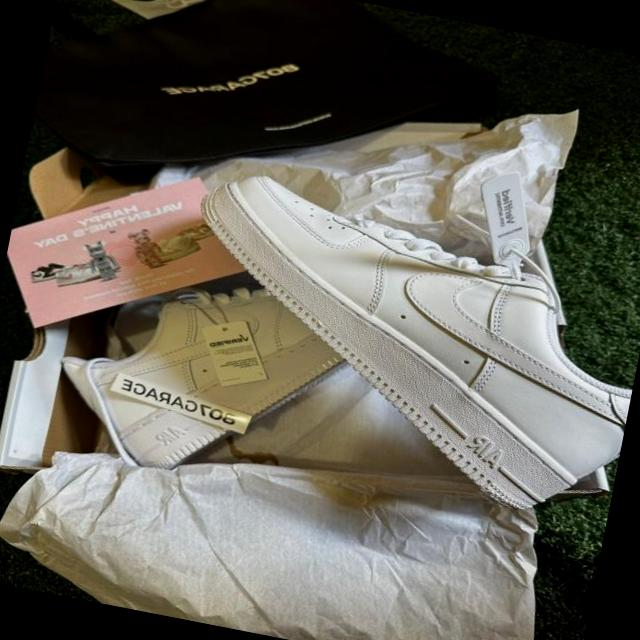nike_original_airforce: (151, 163, 640, 527)
